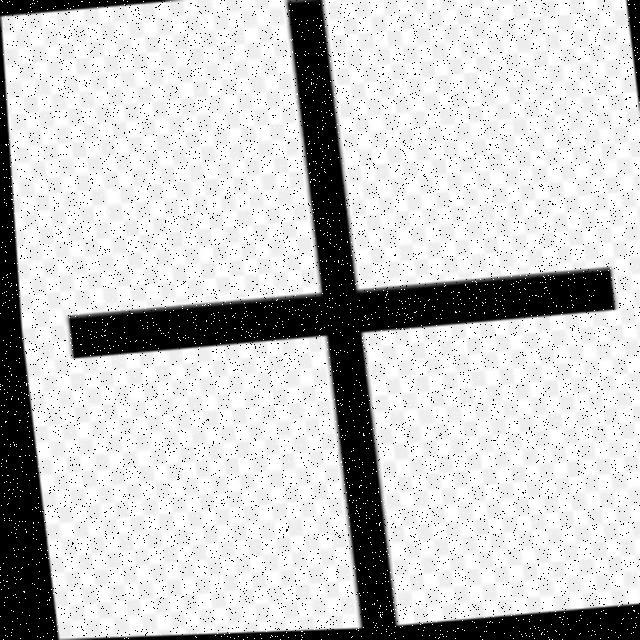cross: (159, 155, 495, 476)
